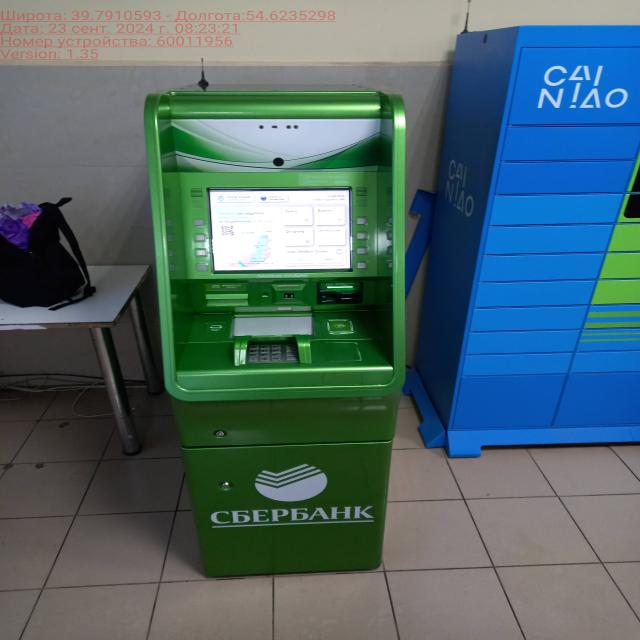bank: (145, 91, 410, 575)
